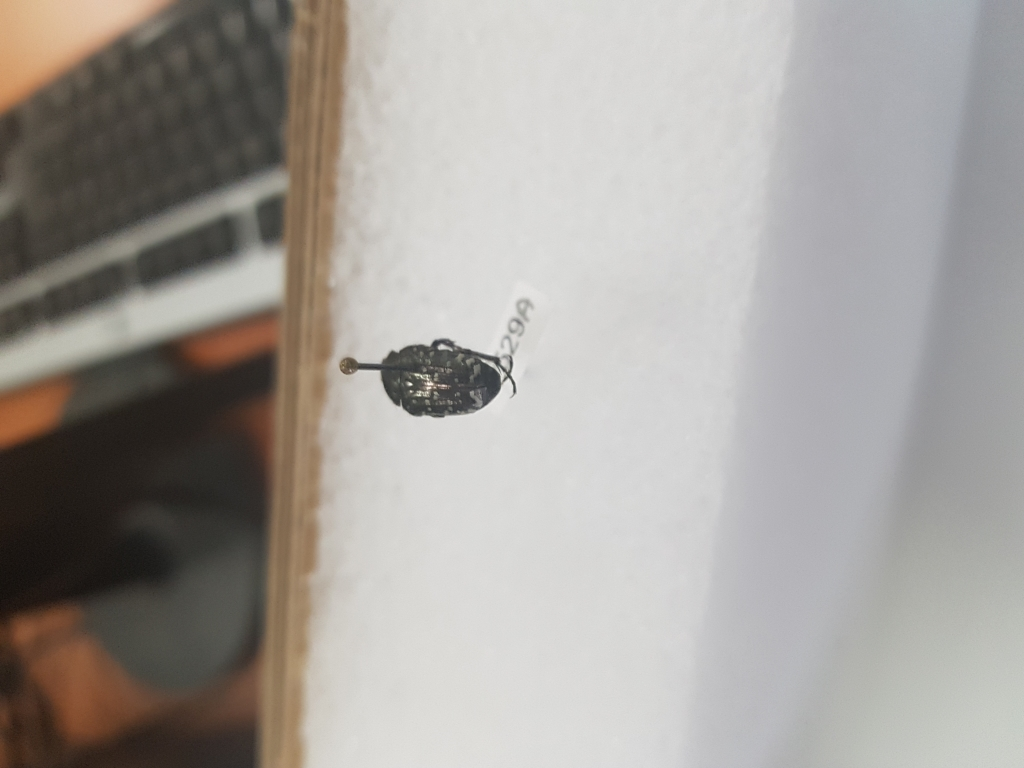Oxythyrea_funesta: (378, 330, 525, 423)
